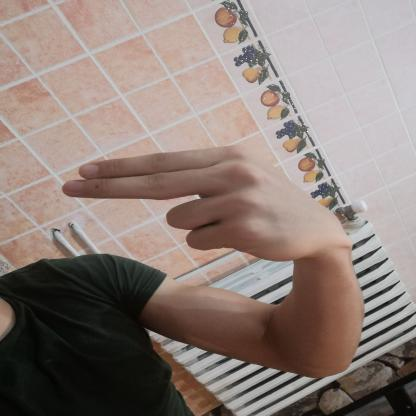AYN: (52, 133, 351, 271)
